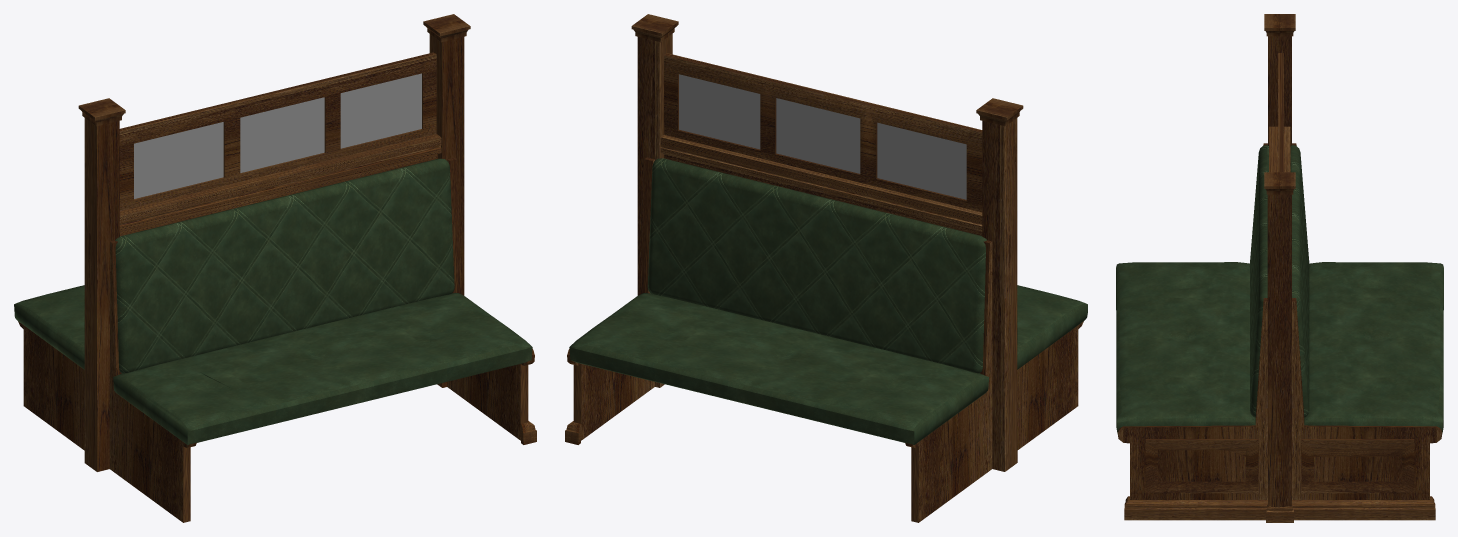
File: Furniture 1.FBX
3 renders of one model, left to right at view 1: azimuth 30°, elevation 25°; view 2: azimuth 150°, elevation 25°; view 3: azimuth 270°, elevation 25°, orthographic. The views are drawn at different scales.
Parts seen in each view (by area): view 1: Furniture 1; view 2: Furniture 1; view 3: Furniture 1.
Boxes of the visible parts, x1,y1,x2,y2 form: Furniture 1: (14,14,536,522); Furniture 1: (565,14,1087,522); Furniture 1: (1116,14,1443,522).
Bounding box in the file's own units: 168 × 153 × 135.
4 materials, 3 textured.
